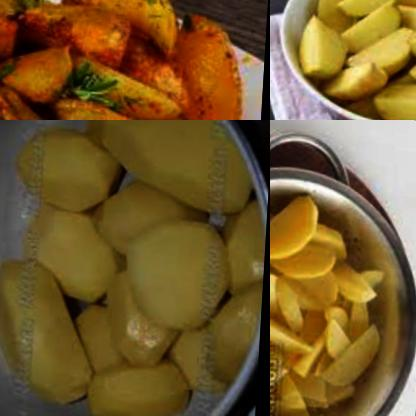potato: (270, 182, 402, 416), (0, 0, 254, 120), (75, 120, 254, 207), (294, 0, 416, 120), (121, 211, 239, 328), (0, 261, 88, 398), (19, 182, 122, 290), (88, 175, 211, 258), (81, 338, 201, 416), (10, 120, 109, 212), (188, 262, 264, 376), (82, 274, 166, 363), (157, 314, 225, 392), (214, 198, 268, 291)
